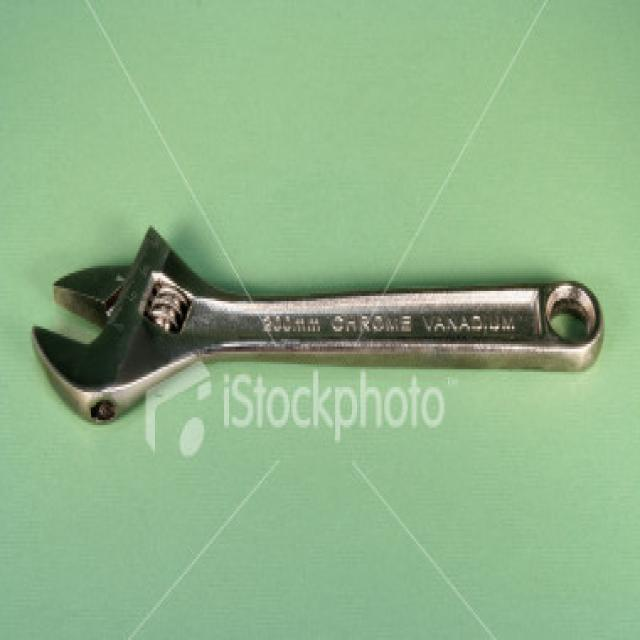wrench: (25, 195, 640, 441)
